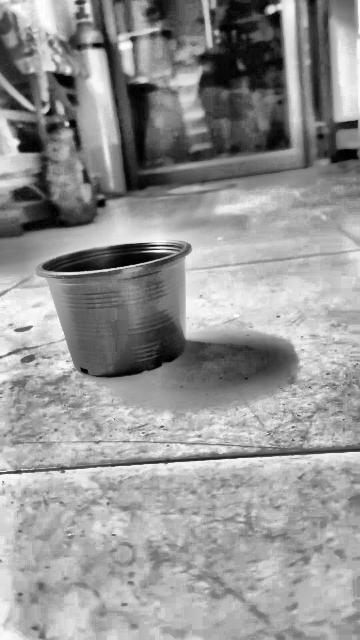pot: (37, 241, 192, 376)
